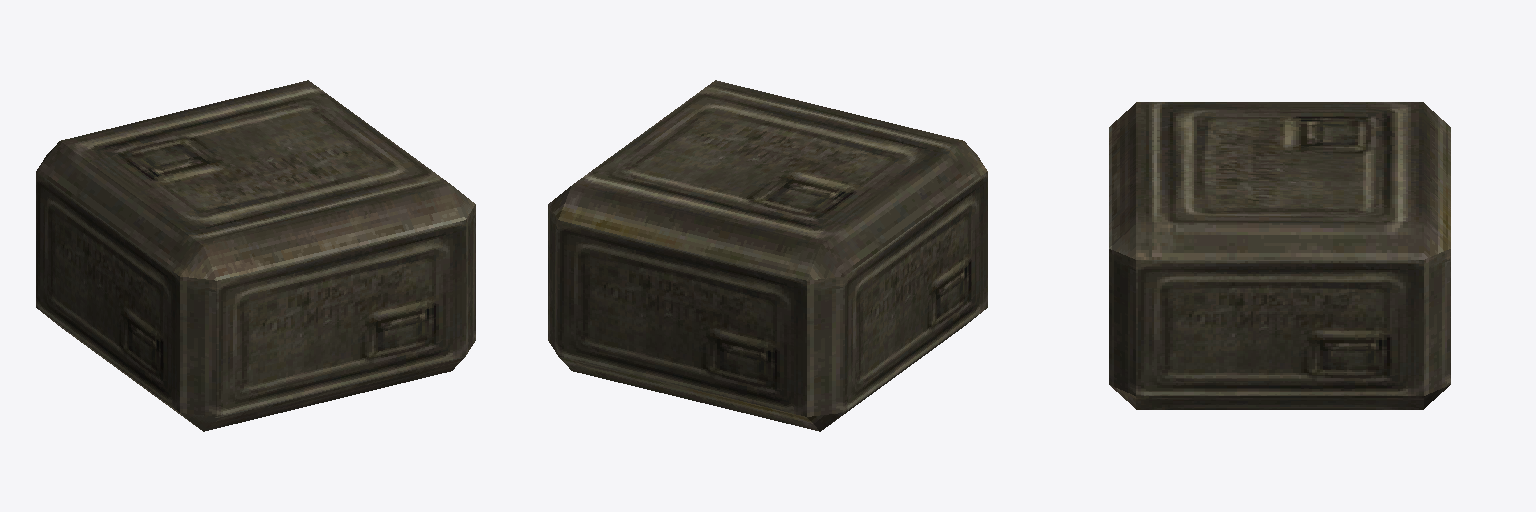
3 renders of one model, left to right at view 1: azimuth 30°, elevation 25°; view 2: azimuth 150°, elevation 25°; view 3: azimuth 270°, elevation 25°, orthographic.
Parts seen in each view (by area): view 1: ammo_m79.ammo_m79.smd.mesh_0; view 2: ammo_m79.ammo_m79.smd.mesh_0; view 3: ammo_m79.ammo_m79.smd.mesh_0.
Part boxes in pixels (bbox=[...]): ammo_m79.ammo_m79.smd.mesh_0: bbox=[36, 80, 475, 431]; ammo_m79.ammo_m79.smd.mesh_0: bbox=[548, 80, 987, 431]; ammo_m79.ammo_m79.smd.mesh_0: bbox=[1109, 102, 1450, 409].
Size of the model in its own units: 18.75 by 11.25 by 18.75.
Materials: 1 (1 with a texture image).